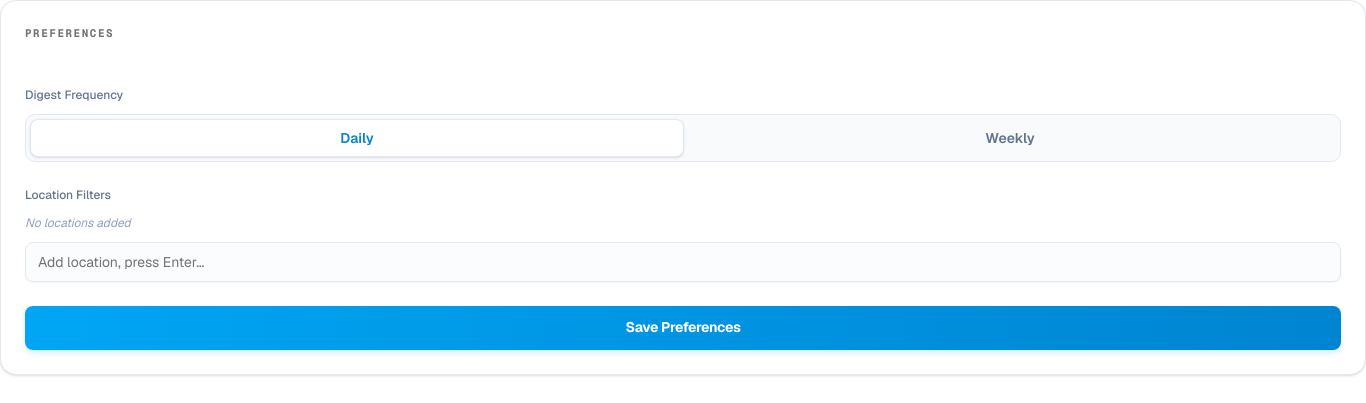
PreferencesCard Component › adds a new location pill when typing and pressing Enter
In the field with placeholder "Add location, press Enter…": (683, 262) x1=25 y1=242 x2=1341 y2=282, type "New York"
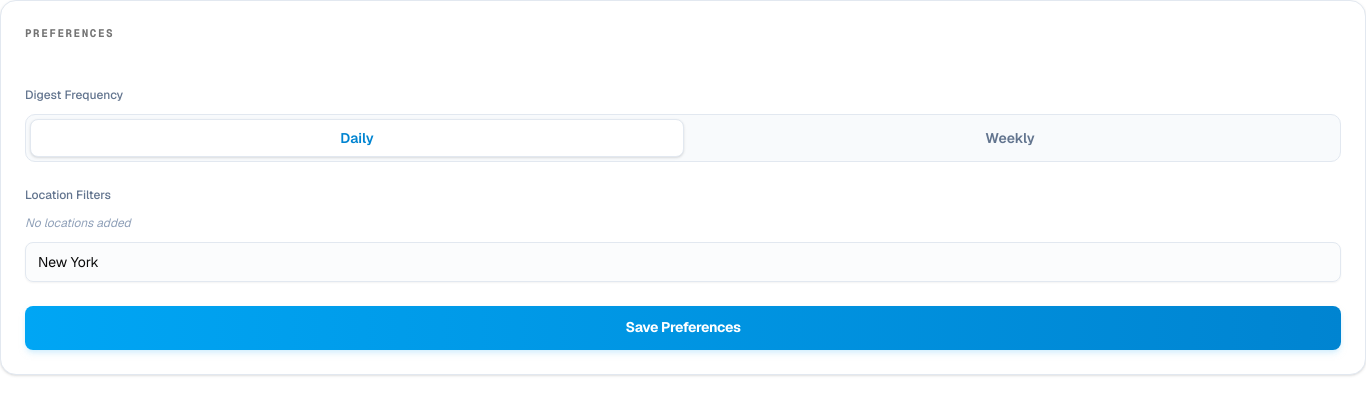
Press Enter in the field with placeholder "Add location, press Enter…", box x1=25 y1=242 x2=1341 y2=282
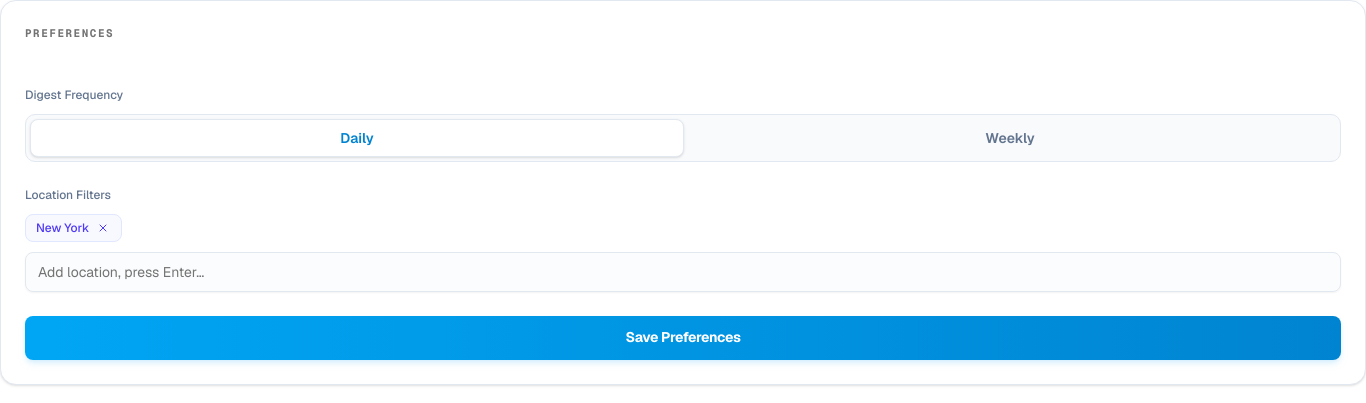
Result: the text "New York" is shown at x1=25 y1=214 x2=122 y2=242
